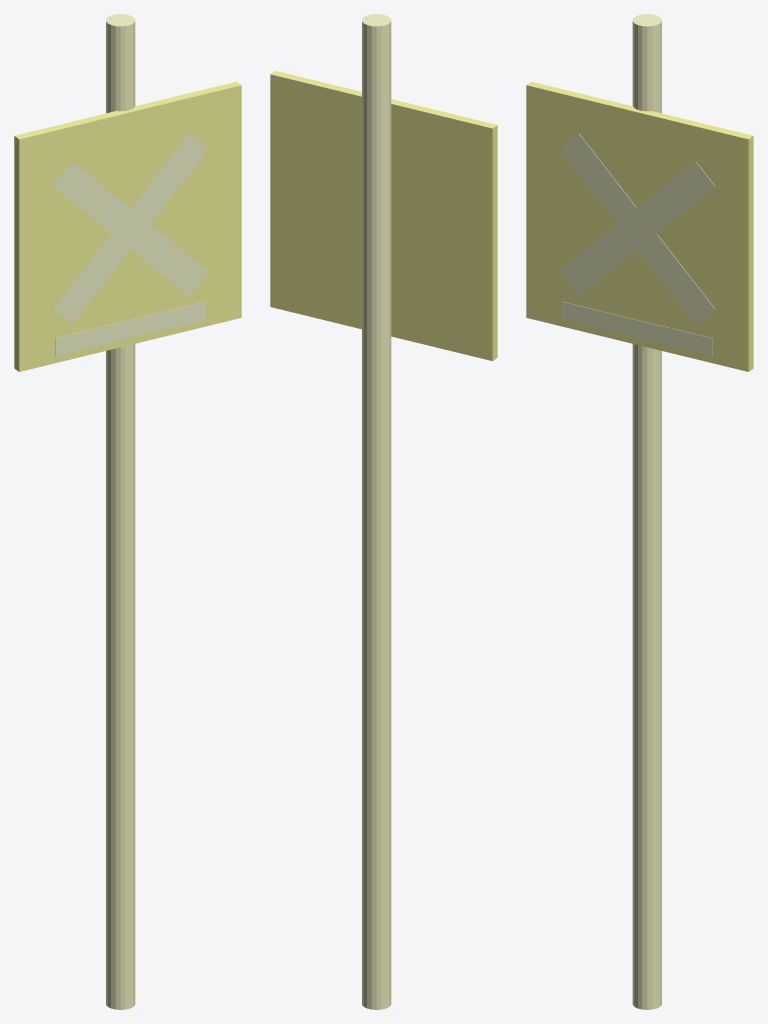
File: sign_railroad_warning.glb
3 renders of one model, left to right at view 1: azimuth 30°, elevation 25°; view 2: azimuth 150°, elevation 25°; view 3: azimuth 330°, elevation 25°, orthographic.
Parts seen in each view (by area): view 1: plate_base_00, pole, layer_1_01, layer_1_00, layer_1_02; view 2: plate_base_00, pole; view 3: plate_base_00, pole, layer_1_00, layer_1_01, layer_1_02.
Part boxes in pixels (left/top/right/bottom): plate_base_00: left=14, top=81, right=241, bottom=371; pole: left=106, top=14, right=135, bottom=1009; layer_1_01: left=53, top=133, right=208, bottom=324; layer_1_00: left=52, top=162, right=208, bottom=295; layer_1_02: left=55, top=301, right=205, bottom=356; plate_base_00: left=270, top=71, right=497, bottom=360; pole: left=362, top=14, right=391, bottom=1009; plate_base_00: left=526, top=81, right=753, bottom=371; pole: left=632, top=14, right=661, bottom=1009; layer_1_00: left=559, top=133, right=714, bottom=324; layer_1_01: left=559, top=162, right=715, bottom=295; layer_1_02: left=562, top=301, right=712, bottom=356.
Bounding box in the file's own units: 0.5204 × 2.2 × 0.071.
